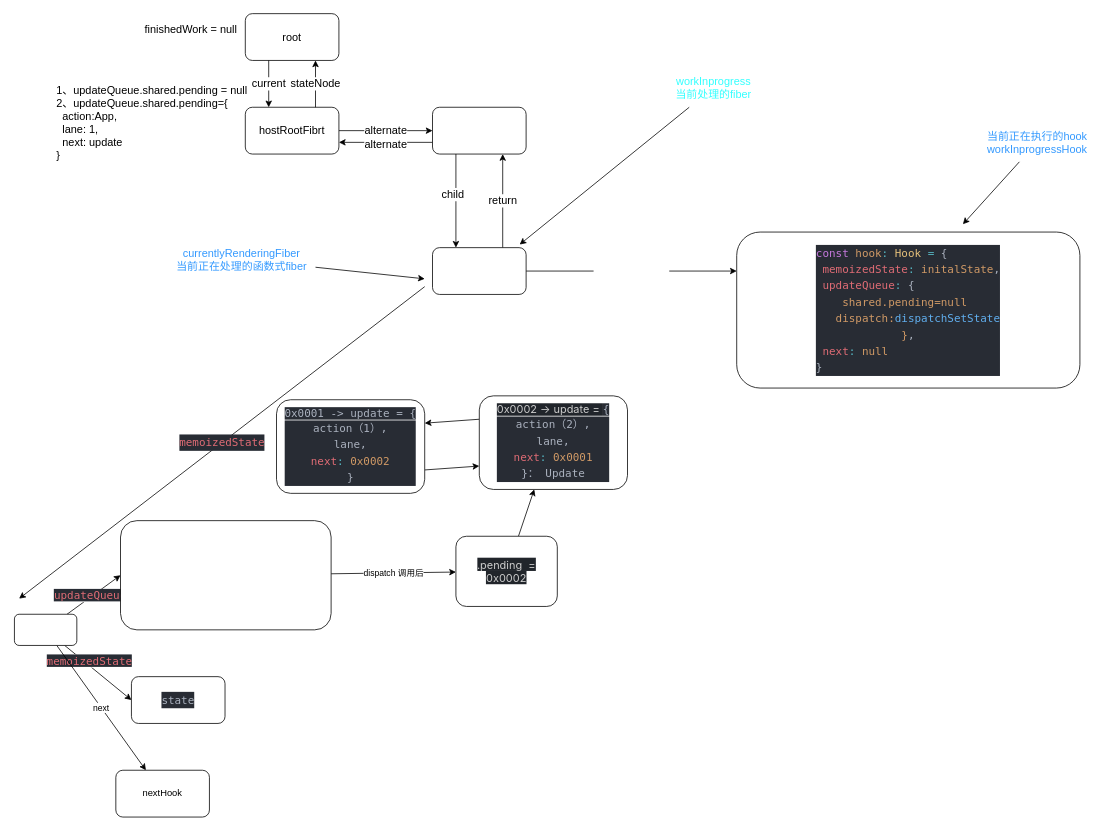
Some shapes in this 1109 by 831 pixel diagram are drawn without their labels. Here are the shapes that lost their labels. From the top down, the centre of each, then its label:
At point (479, 130): "wip".
At point (479, 270): "App".
At point (225, 575): "{ shared : { pending : null }, dispatch : dispatchSetState }".
At point (45, 629): "hook".
